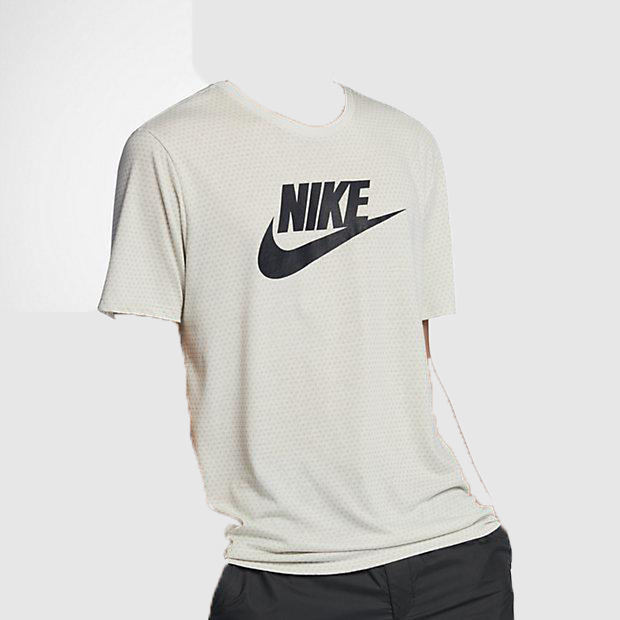teeshirt: (92, 80, 553, 577)
